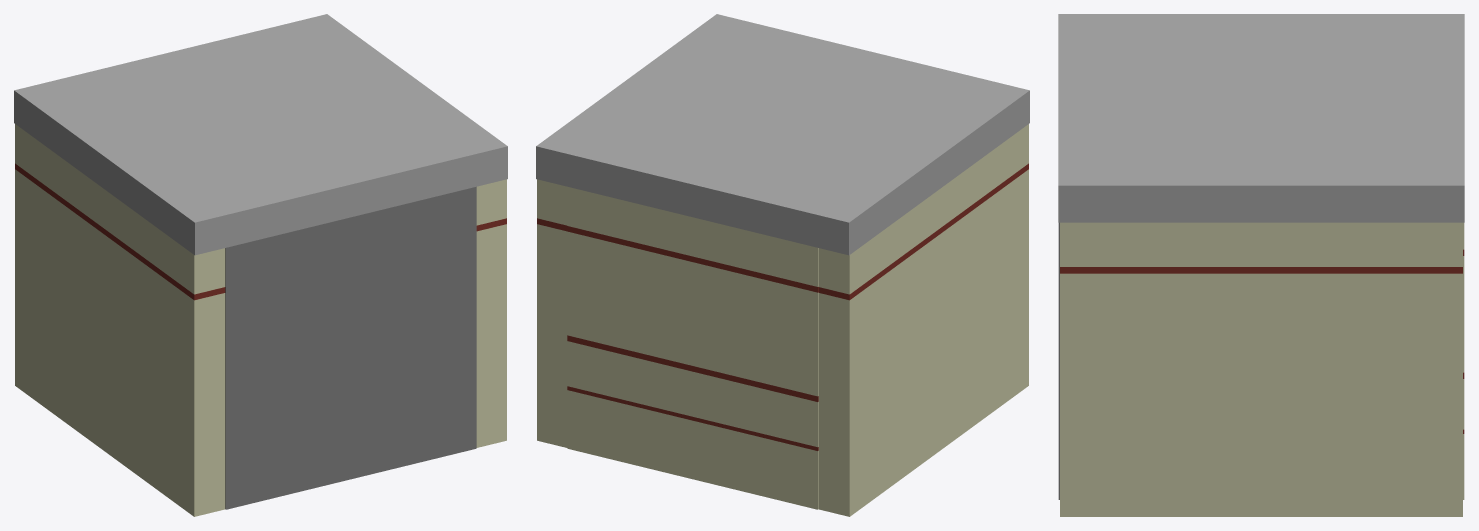
Rendered from PongRoom002.fbx.
The picture shows the model from 3 angles, left to right: view 1: azimuth 30°, elevation 25°; view 2: azimuth 150°, elevation 25°; view 3: azimuth 270°, elevation 25°; orthographic projection. The views are drawn at different scales.
Parts seen in each view (by area): view 1: Squash Court object, Squash Court Ceiling object; view 2: Squash Court object, Squash Court Ceiling object; view 3: Squash Court object, Squash Court Ceiling object.
Part boxes in pixels (left/top/right/bottom): Squash Court object: left=15, top=124, right=506, bottom=516; Squash Court Ceiling object: left=14, top=14, right=507, bottom=255; Squash Court object: left=537, top=124, right=1028, bottom=516; Squash Court Ceiling object: left=536, top=14, right=1029, bottom=255; Squash Court object: left=1058, top=222, right=1464, bottom=516; Squash Court Ceiling object: left=1058, top=14, right=1464, bottom=222.
Bounding box in the file's own units: 1000 × 900 × 1000.
